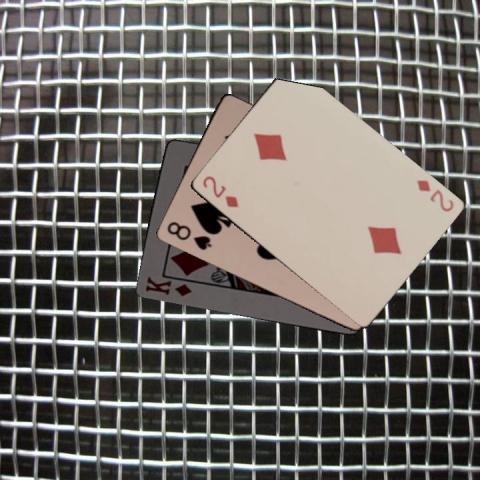2d: (413, 177, 455, 214), (199, 173, 240, 209)
8s: (163, 219, 213, 252)
Kd: (142, 273, 193, 298)
